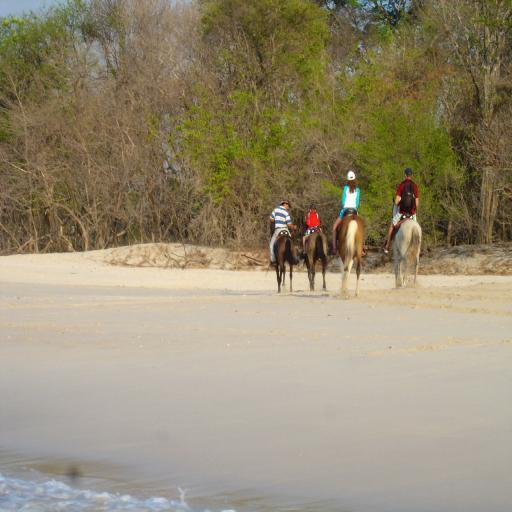horse: (336, 212, 366, 298), (392, 219, 424, 291), (270, 222, 300, 294), (306, 230, 326, 294)
